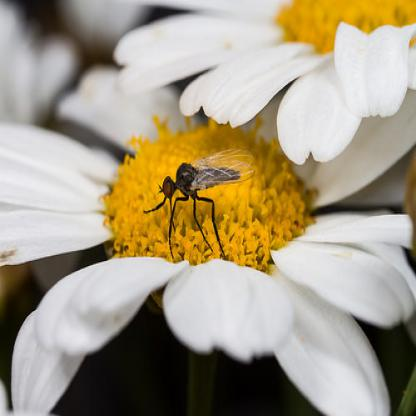ASTER: (5, 9, 414, 402)
